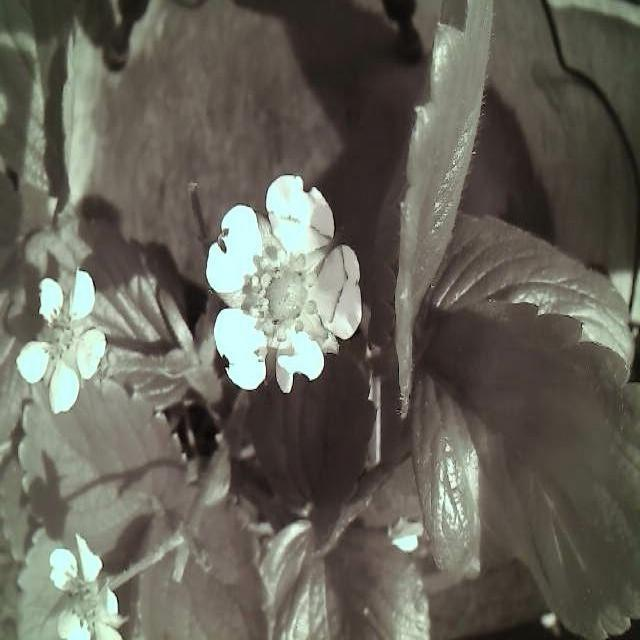flower: (202, 172, 370, 398), (10, 267, 114, 424), (43, 530, 146, 640)
